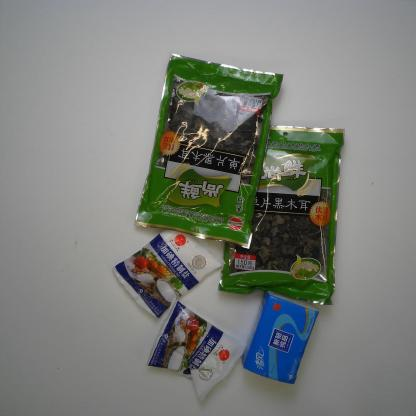Dried Food: (131, 48, 285, 254), (214, 122, 346, 309)
Seasoner: (140, 292, 246, 410), (110, 228, 229, 320)
Tissue: (240, 288, 322, 388)
